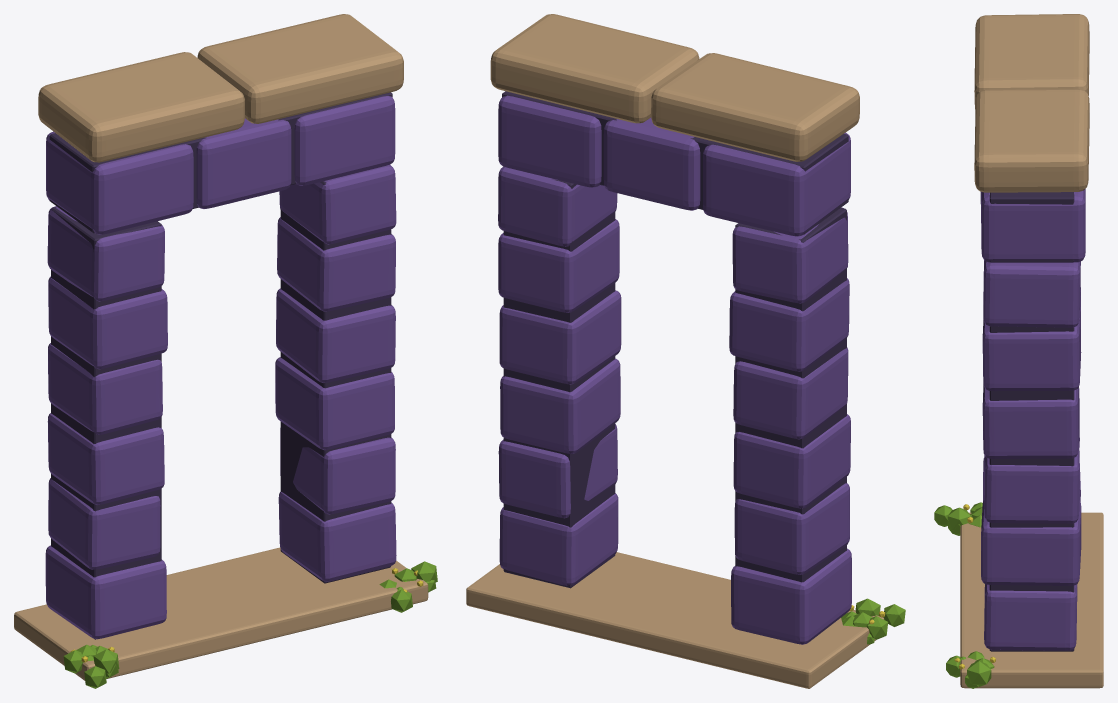
The model's file is SquareDoor_frame.glb.
3 renders of one model, left to right at view 1: azimuth 30°, elevation 25°; view 2: azimuth 150°, elevation 25°; view 3: azimuth 270°, elevation 25°, orthographic. The views are drawn at different scales.
Parts seen in each view (by area): view 1: SquareDoor_frame; view 2: SquareDoor_frame; view 3: SquareDoor_frame.
Boxes of the visible parts, bbox=[...] form: SquareDoor_frame: bbox=[14, 14, 437, 688]; SquareDoor_frame: bbox=[466, 14, 905, 688]; SquareDoor_frame: bbox=[934, 14, 1103, 688].
Bounding box in the file's own units: 1.26 × 1.79 × 0.5203.
